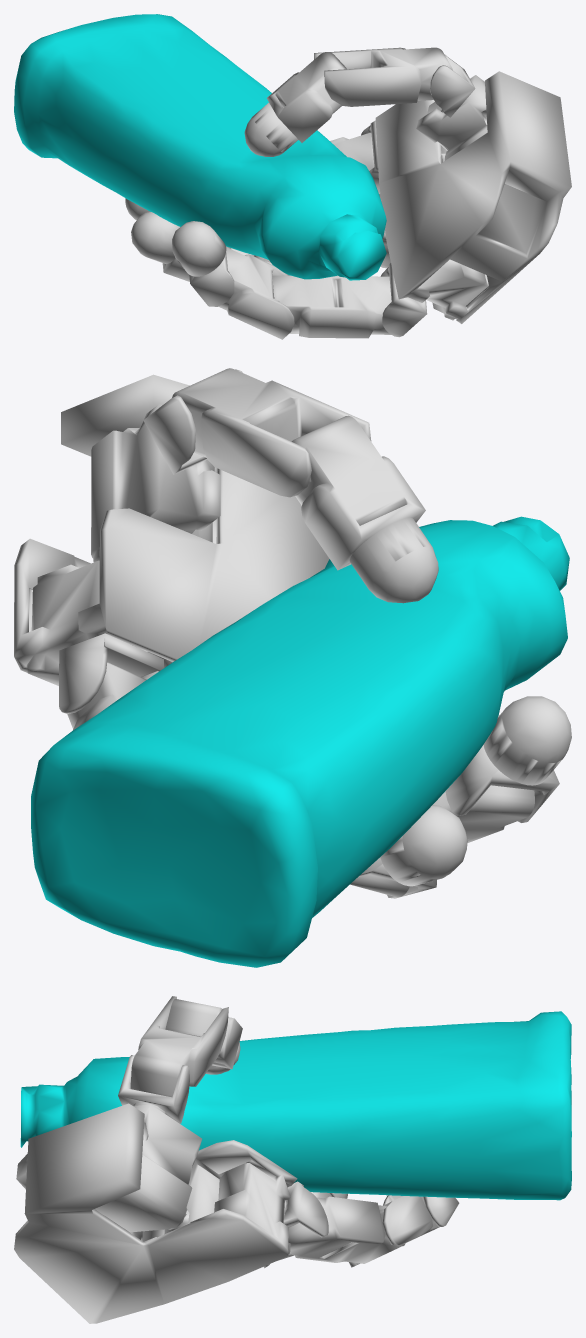
The model's file is allegro_cleaner.glb.
The picture shows the model from 3 angles, top to bottom: view 1: azimuth 30°, elevation 25°; view 2: azimuth 150°, elevation 25°; view 3: azimuth 270°, elevation 25°; orthographic projection. The views are drawn at different scales.
Parts seen in each view (by area): view 1: obj, body_0, body_12, body_18, body_13, body_19, body_16, body_15, body_20, body_10, body_17, body_11 (+3 smaller); view 2: obj, body_0, body_18, body_19, body_16, body_15, body_20, body_10, body_1, body_14, body_13, body_17 (+2 smaller); view 3: obj, body_0, body_16, body_18, body_2, body_19, body_3, body_17, body_1, body_4.
Part boxes in pixels (x1,y1,x2,y2): obj: (14,14,386,280); body_0: (375,71,571,323); body_12: (272,275,391,338); body_18: (314,47,452,106); body_13: (218,247,294,339); body_19: (266,52,346,142); body_16: (416,75,505,184); body_15: (172,221,226,276); body_20: (244,102,298,156); body_10: (131,212,179,263); body_17: (430,55,475,117); body_11: (380,263,427,337); obj: (31,516,569,967); body_0: (14,374,329,685); body_18: (172,368,371,497); body_19: (291,415,425,570); body_16: (91,404,220,562); body_15: (483,696,571,785); body_20: (349,517,438,603); body_10: (380,805,467,886); body_1: (59,633,163,713); body_14: (445,745,559,822); body_13: (433,785,534,842); body_17: (143,369,242,474); obj: (20,1011,571,1200); body_0: (14,1103,297,1323); body_16: (94,1102,201,1232); body_18: (130,996,228,1097); body_2: (288,1196,403,1263); body_19: (165,999,242,1069); body_3: (349,1196,439,1267); body_17: (118,1055,189,1123); body_1: (283,1181,328,1237); body_4: (383,1195,459,1246).
Size of the model in its own units: 0.00203 by 0.00144 by 0.00254.
